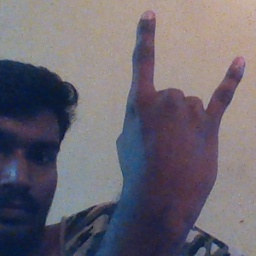V: (115, 8, 248, 222)
